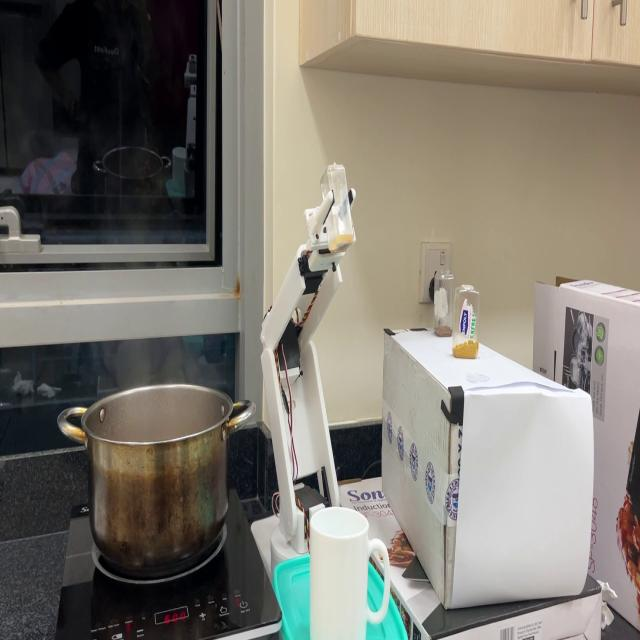cooking_pot: (57, 380, 256, 568)
curry_powder: (452, 339, 477, 360)
garlic_powder: (328, 232, 356, 252)
maggie_open: (433, 321, 449, 338)
